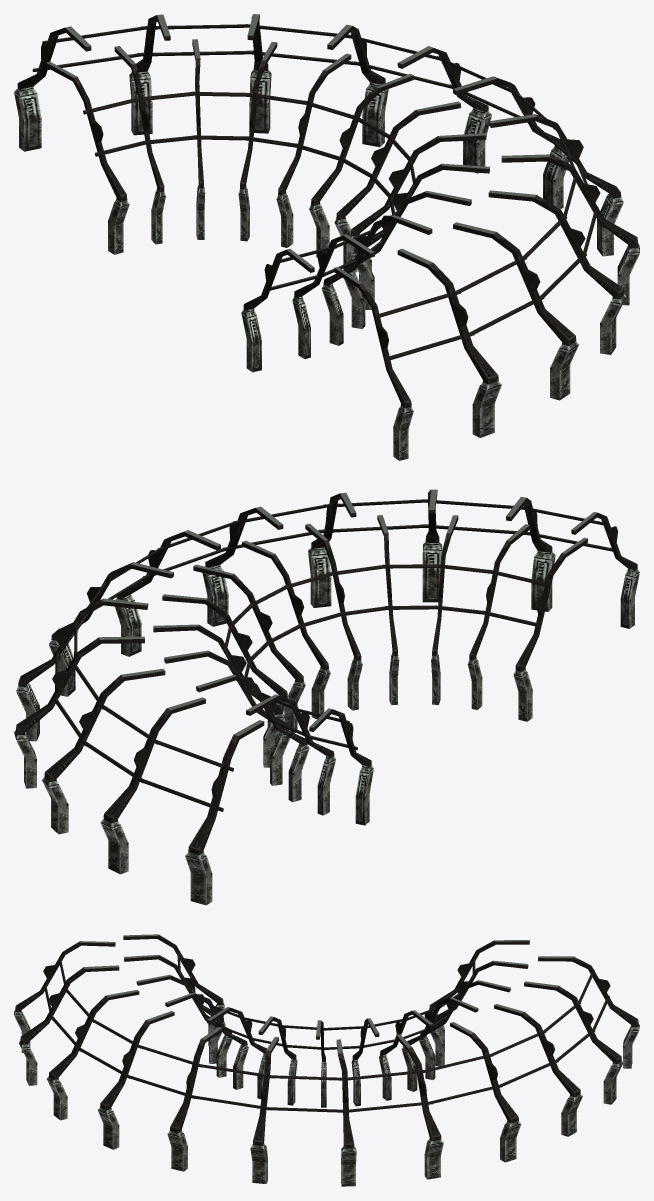
Rendered from Grille2.fbx.
3 renders of one model, top to bottom at view 1: azimuth 30°, elevation 25°; view 2: azimuth 150°, elevation 25°; view 3: azimuth 270°, elevation 25°, orthographic. The views are drawn at different scales.
Parts seen in each view (by area): view 1: polySurface149; view 2: polySurface149; view 3: polySurface149.
Boxes of the visible parts, left/top/right/bottom form: polySurface149: left=14, top=14, right=639, bottom=460; polySurface149: left=14, top=489, right=639, bottom=905; polySurface149: left=14, top=934, right=639, bottom=1186.
Size of the model in its own units: 39.61 by 13.61 by 71.23.
